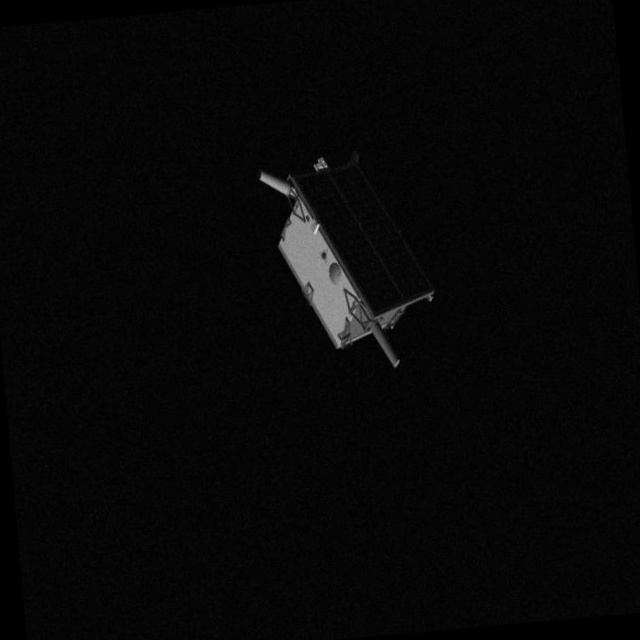satellite: (233, 118, 451, 391)
